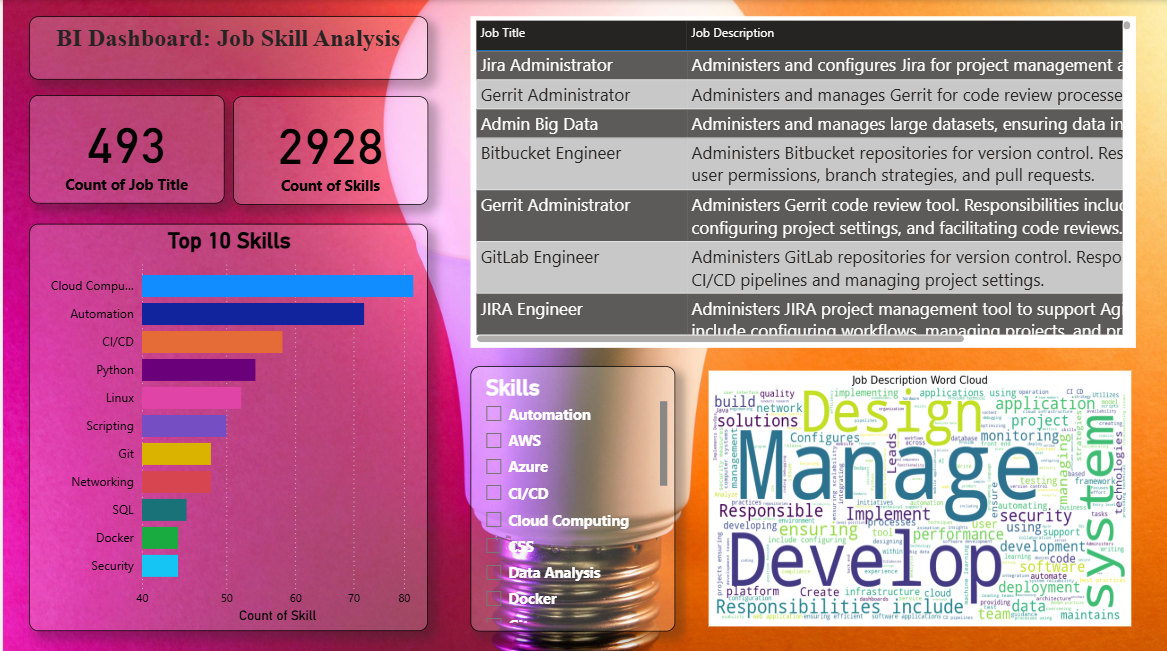

This screenshot's page, from the dashboard's own definition file:
{"tool":"powerbi","page":{"name":"Page 1","canvas":[1280,720],"ordinal":0},"visuals":[{"type":"barChart","title":"Top 10 Skills","fields":{"Category":["job_skills.Skill"],"Y":["CountNonNull(job_skills.Skill)"],"Series":["job_skills.Skill"]},"box":[28.8,245.6,437.7,447.3],"z":0},{"type":"card","fields":{"Values":["CountNonNull(job_main.Job Title)"]},"box":[28.8,104.3,214.1,119.4],"z":1},{"type":"card","fields":{"Values":["CountNonNull(job_skills.Skill)"]},"box":[252.5,105.7,214.1,119.4],"z":2},{"type":"textbox","box":[28.8,17.8,437.7,70],"z":3},{"type":"image","box":[769.8,402.1,473.4,290.9],"z":4},{"type":"tableEx","fields":{"Values":["job_certs.Job Title","job_certs.Certification"]},"box":[513.2,17.8,730,363.6],"z":5},{"type":"slicer","fields":{"Values":["job_skills.Skill"]},"box":[513.2,402.1,225,290.9],"z":6}]}

Visuals, with their boxes in screenshot pixels (x1, y1, x2, y2), scaled from the page's 1280x720 canvas onto the 1167x651 screenshot:
"Top 10 Skills" barChart: <box>26,222,425,626</box>
card - CountNonNull(job_main.Job Title): <box>26,94,221,202</box>
card - CountNonNull(job_skills.Skill): <box>230,96,425,204</box>
textbox: <box>26,16,425,79</box>
image: <box>702,364,1133,627</box>
tableEx - job_certs.Job Title x job_certs.Certification: <box>468,16,1133,345</box>
slicer - job_skills.Skill: <box>468,364,673,627</box>
